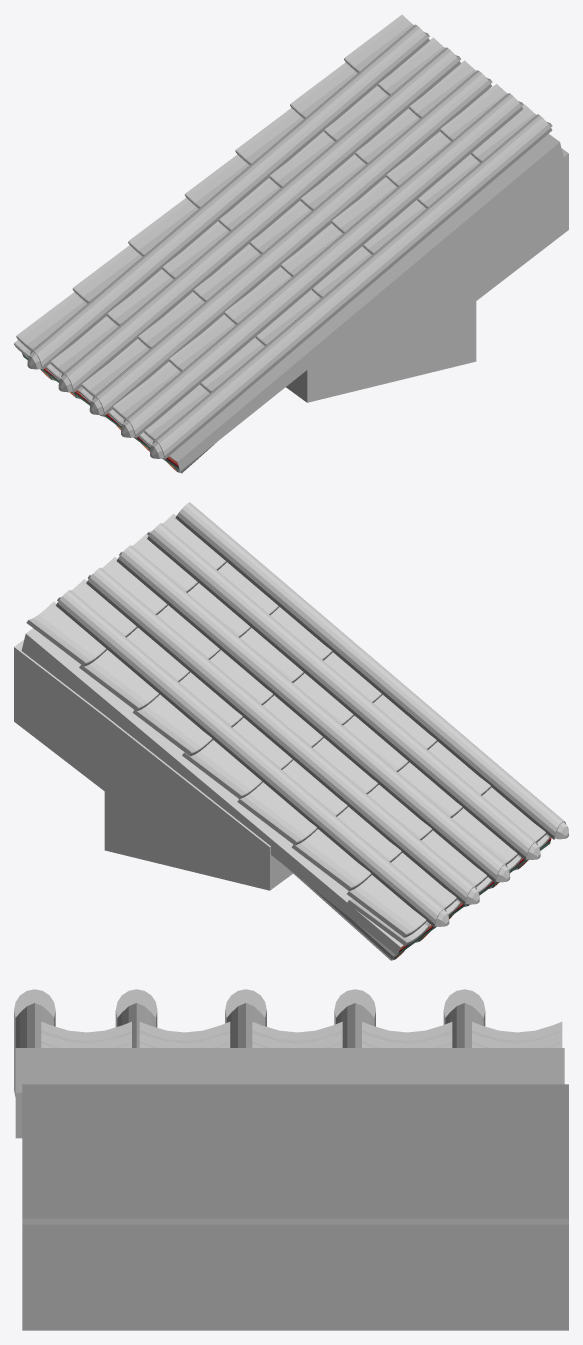
Rendered from SM_Roof_1.fbx.
3 views of the same model, one above another, from view 1: azimuth 30°, elevation 25°; view 2: azimuth 150°, elevation 25°; view 3: azimuth 270°, elevation 25° (orthographic). The views are drawn at different scales.
Parts seen in each view (by area): view 1: SM_Roof_1_LOD0; view 2: SM_Roof_1_LOD0; view 3: SM_Roof_1_LOD0.
Boxes of the visible parts, x1,y1,x2,y2 form: SM_Roof_1_LOD0: [14, 14, 568, 473]; SM_Roof_1_LOD0: [14, 502, 568, 960]; SM_Roof_1_LOD0: [14, 989, 568, 1330].
Bounding box in the file's own units: 336 × 222 × 218.
